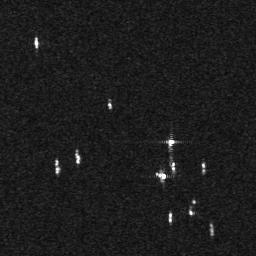ship: (54, 159, 61, 175), (75, 151, 81, 166), (167, 138, 176, 148), (34, 36, 39, 50), (168, 212, 173, 224), (171, 161, 176, 172)
